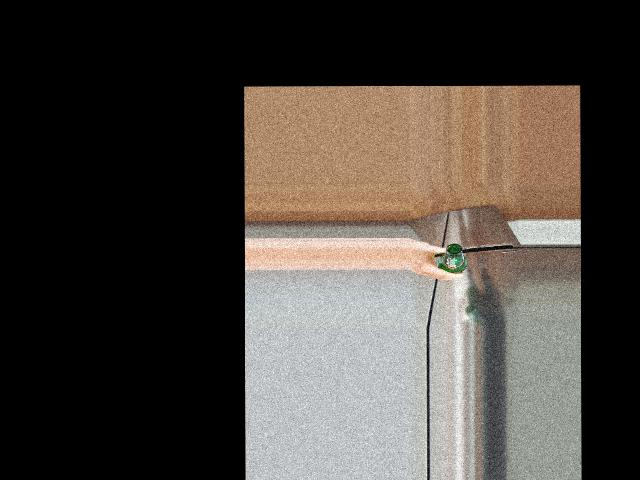beer: (438, 243, 467, 273)
